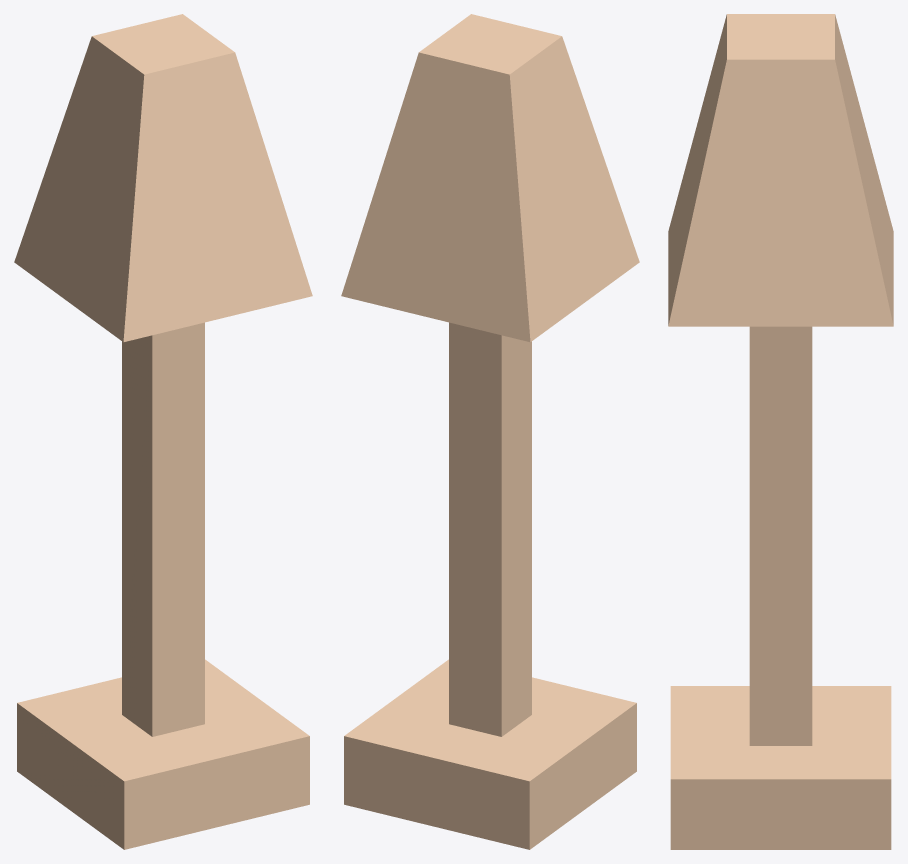
3 views of the same model, side by side, from view 1: azimuth 30°, elevation 25°; view 2: azimuth 150°, elevation 25°; view 3: azimuth 270°, elevation 25° (orthographic). The views are drawn at different scales.
Parts seen in each view (by area): view 1: OJ4_1; view 2: OJ4_1; view 3: OJ4_1.
Boxes of the visible parts, x1=… form: OJ4_1: x1=14, y1=14, x2=312, y2=849; OJ4_1: x1=341, y1=14, x2=639, y2=849; OJ4_1: x1=668, y1=14, x2=893, y2=849.
Bounding box in the file's own units: 0.5787 × 2.17 × 0.5787.
Materials: 1 (1 with a texture image).
